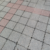zebra: (1, 4, 49, 50)
